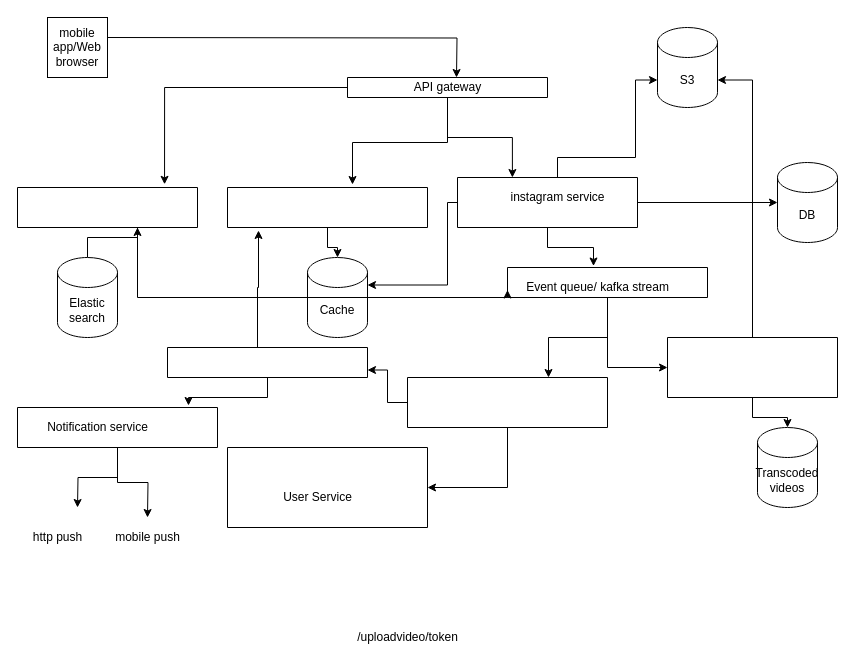
Some shapes in this 855 by 665 pixel diagram are drawn without their labels. Here are the shapes that lost their labels. From the top down, the centre of each, then its label:
At point (107, 207): "Search service".
At point (327, 207): "Timeline service".
At point (267, 362): "published message queue".
At point (752, 367): "Trasncoder".
At point (507, 402): "publish message service".
